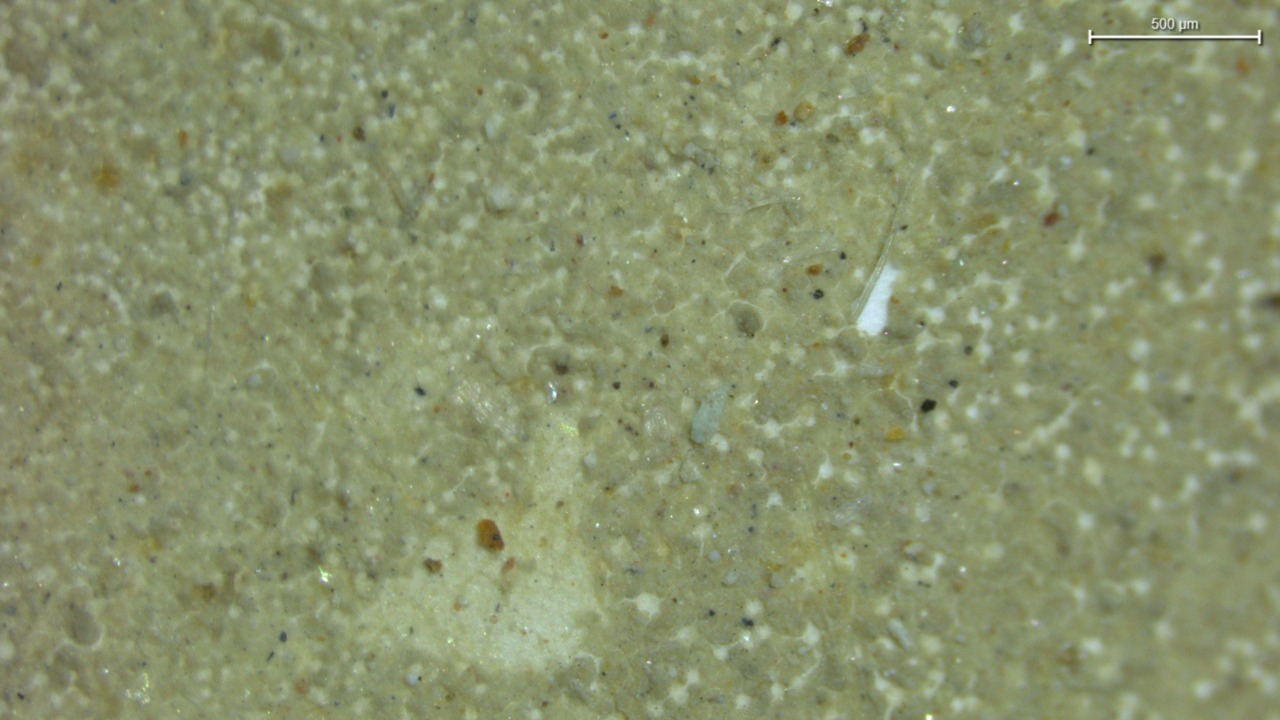microplastic_fragment: (691, 385, 728, 443)
